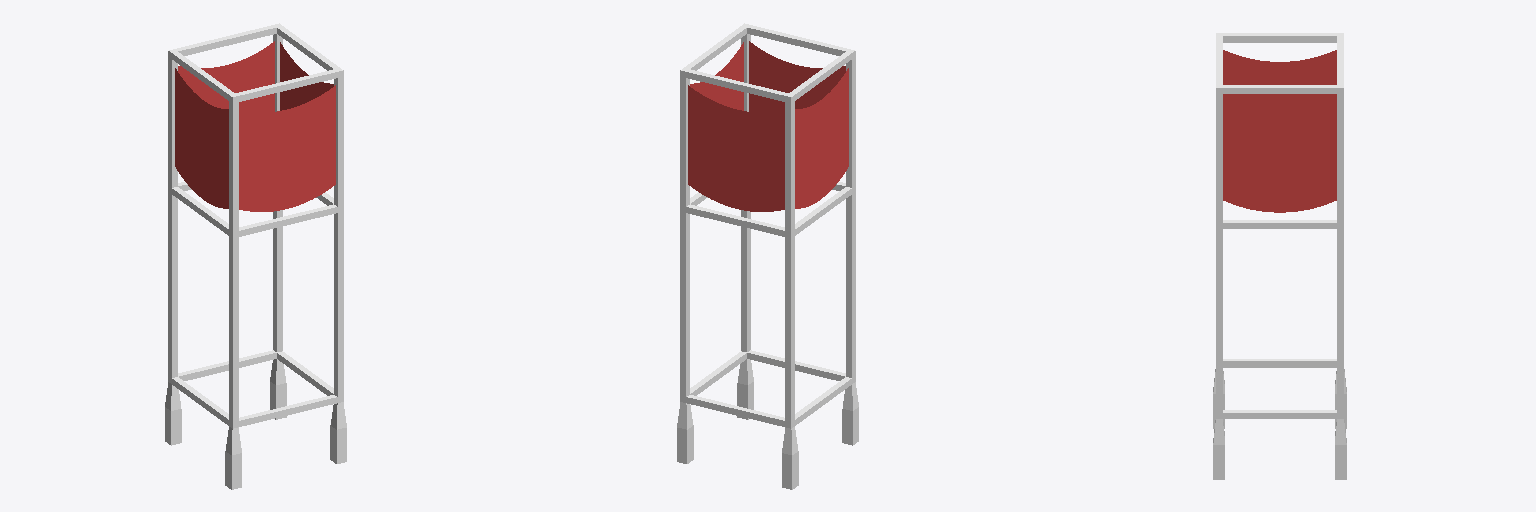
File: bannerTowerRed.obj
The picture shows the model from 3 angles: view 1: azimuth 30°, elevation 25°; view 2: azimuth 150°, elevation 25°; view 3: azimuth 270°, elevation 25°; orthographic projection.
Parts seen in each view (by area): view 1: bannerTowerRed; view 2: bannerTowerRed; view 3: bannerTowerRed.
Part boxes in pixels (left/top/right/bottom): bannerTowerRed: left=165, top=23, right=346, bottom=489; bannerTowerRed: left=677, top=23, right=858, bottom=489; bannerTowerRed: left=1213, top=33, right=1346, bottom=479.
Bounding box in the file's own units: 0.3852 × 1.25 × 0.3852.